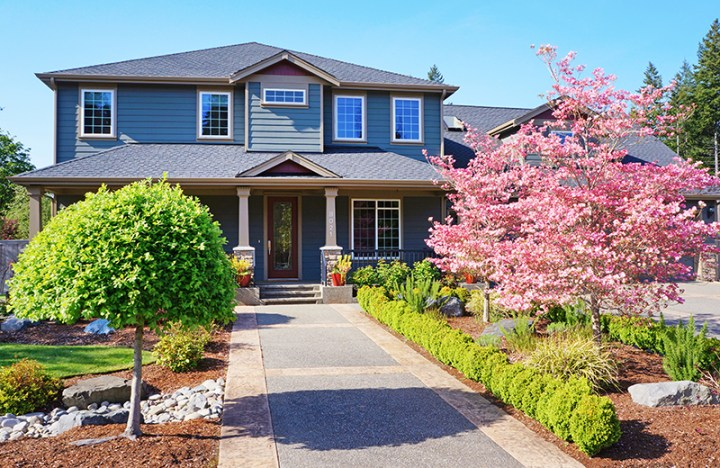tree: (433, 54, 710, 346), (8, 180, 241, 438)
